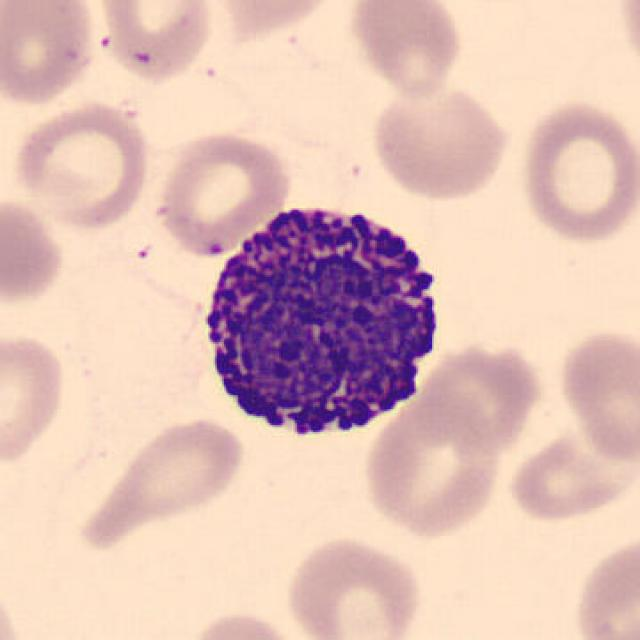Basophil: (187, 188, 457, 458)
RBC: (356, 335, 535, 543), (71, 412, 249, 554), (9, 97, 155, 233), (514, 95, 638, 247), (151, 129, 295, 259), (368, 81, 514, 203), (281, 530, 427, 640), (502, 423, 638, 526), (553, 322, 638, 466), (345, 0, 466, 99), (0, 0, 99, 109), (93, 0, 215, 85), (0, 327, 69, 467), (0, 192, 69, 312), (569, 529, 638, 640), (206, 0, 343, 41), (178, 608, 309, 640), (611, 0, 640, 83), (0, 571, 27, 640)
